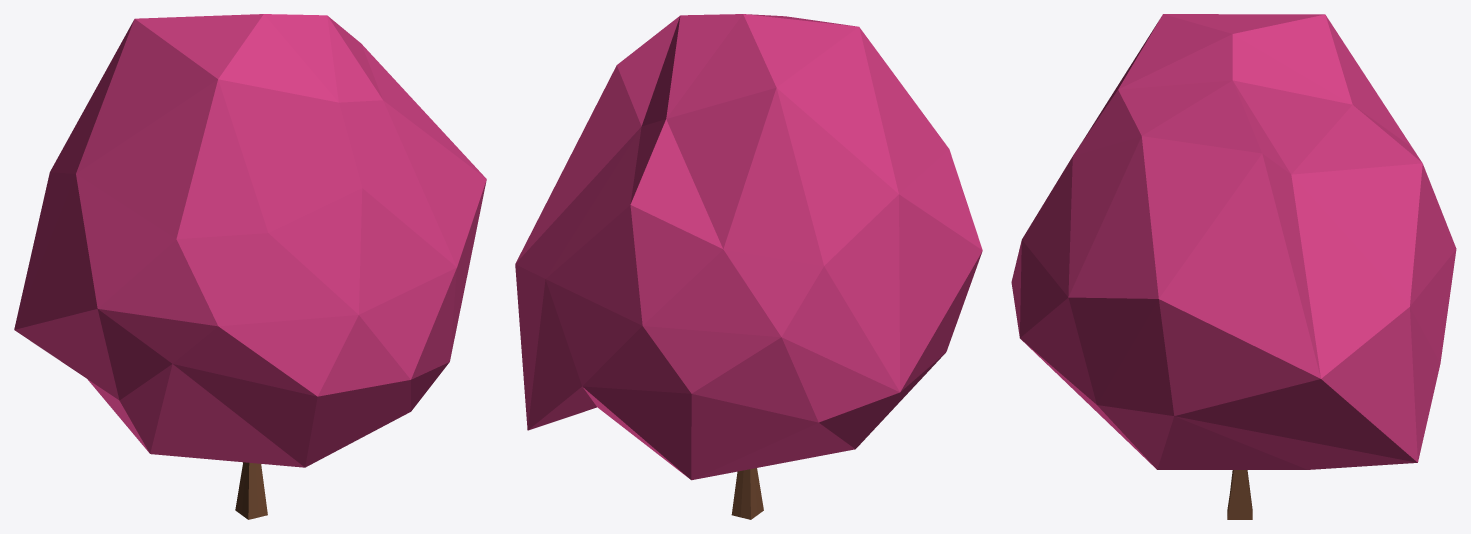
File: Tree_17_Pink.fbx
3 renders of one model, left to right at view 1: azimuth 30°, elevation 25°; view 2: azimuth 150°, elevation 25°; view 3: azimuth 270°, elevation 25°, orthographic. The views are drawn at different scales.
Visible parts, largest first — view 1: Tree_17_Pink_Part_1, Tree_17_Pink_Part_2; view 2: Tree_17_Pink_Part_1, Tree_17_Pink_Part_2; view 3: Tree_17_Pink_Part_1, Tree_17_Pink_Part_2.
Boxes of the visible parts, box(x1,y1,x2,y2) form: Tree_17_Pink_Part_1: box(14, 14, 486, 467); Tree_17_Pink_Part_2: box(235, 462, 267, 519); Tree_17_Pink_Part_1: box(515, 14, 982, 480); Tree_17_Pink_Part_2: box(731, 468, 763, 519); Tree_17_Pink_Part_1: box(1011, 14, 1456, 469); Tree_17_Pink_Part_2: box(1227, 470, 1252, 519).
Bounding box in the file's own units: 639 × 784 × 651.
